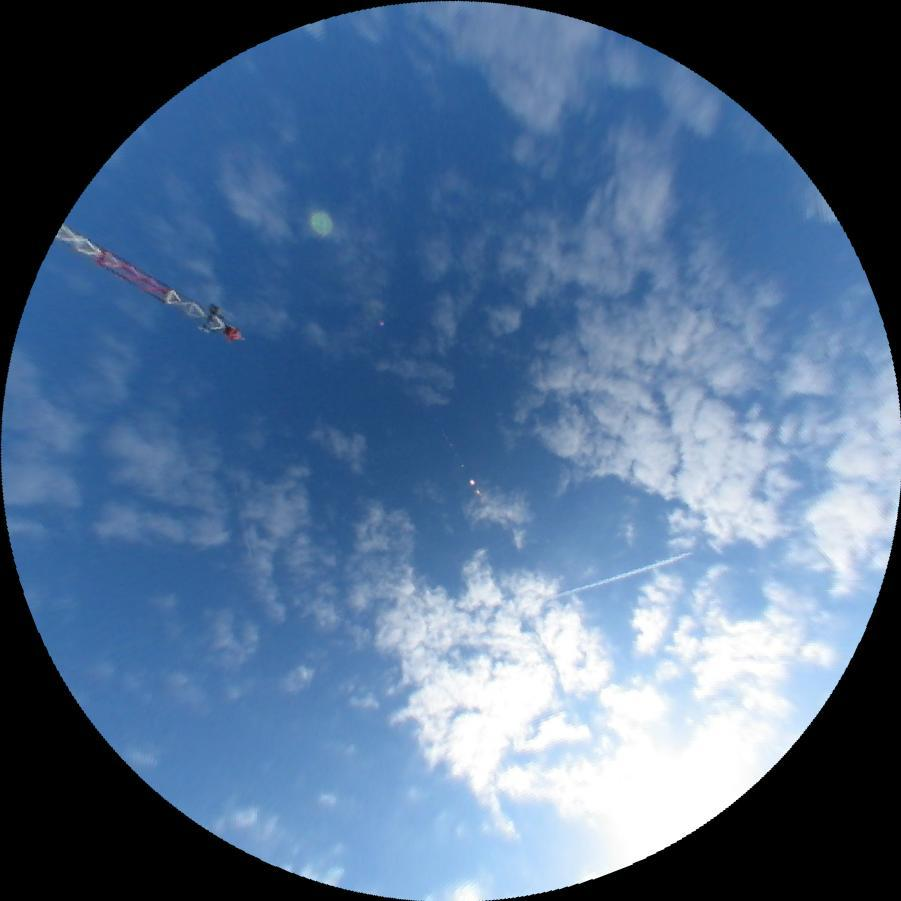contrail young: (549, 549, 692, 602), (228, 464, 250, 558), (807, 426, 817, 488)
sun: (582, 713, 766, 866)
